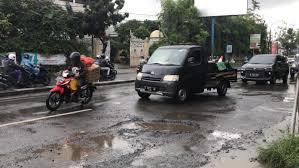Pothole: (13, 111, 281, 167), (0, 105, 53, 134)
